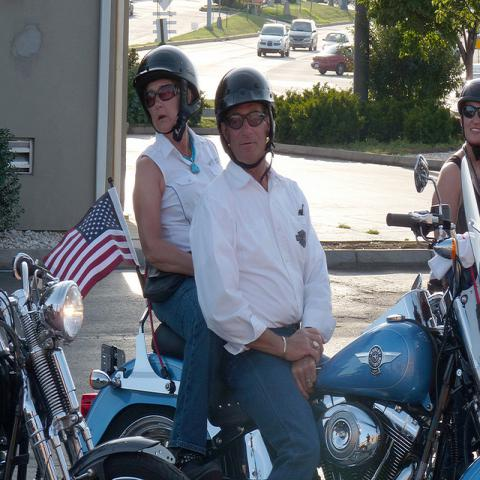car: (310, 43, 354, 75), (258, 24, 289, 57), (290, 20, 318, 52), (322, 32, 349, 48), (129, 0, 134, 15)
motorcycle: (88, 155, 480, 474), (2, 247, 192, 475)
